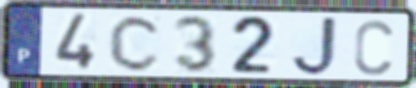2: (227, 14, 280, 76)
3: (172, 14, 220, 74)
4: (52, 12, 98, 73)
C: (107, 13, 165, 73), (352, 17, 395, 77)
J: (289, 15, 340, 78)
